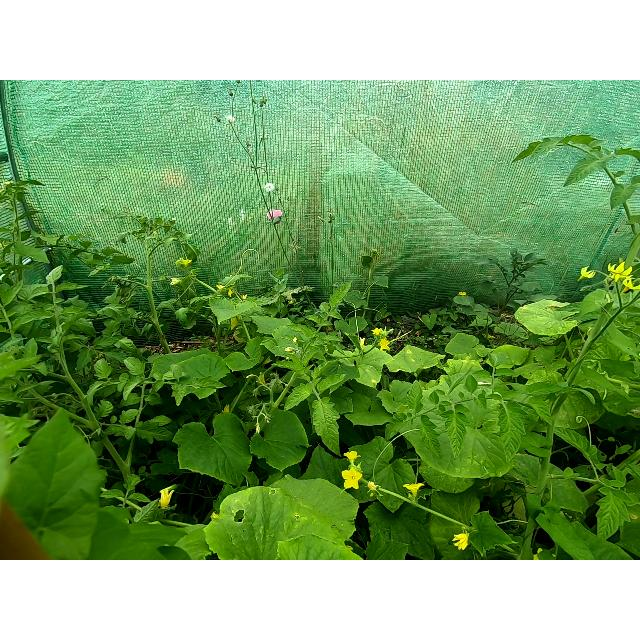Flowers: (606, 262, 634, 280), (342, 468, 364, 490), (372, 327, 392, 351), (451, 532, 473, 550), (343, 448, 362, 464), (578, 266, 596, 282), (404, 484, 424, 498), (160, 488, 174, 508), (621, 280, 639, 294), (178, 259, 192, 267), (170, 277, 180, 285)
